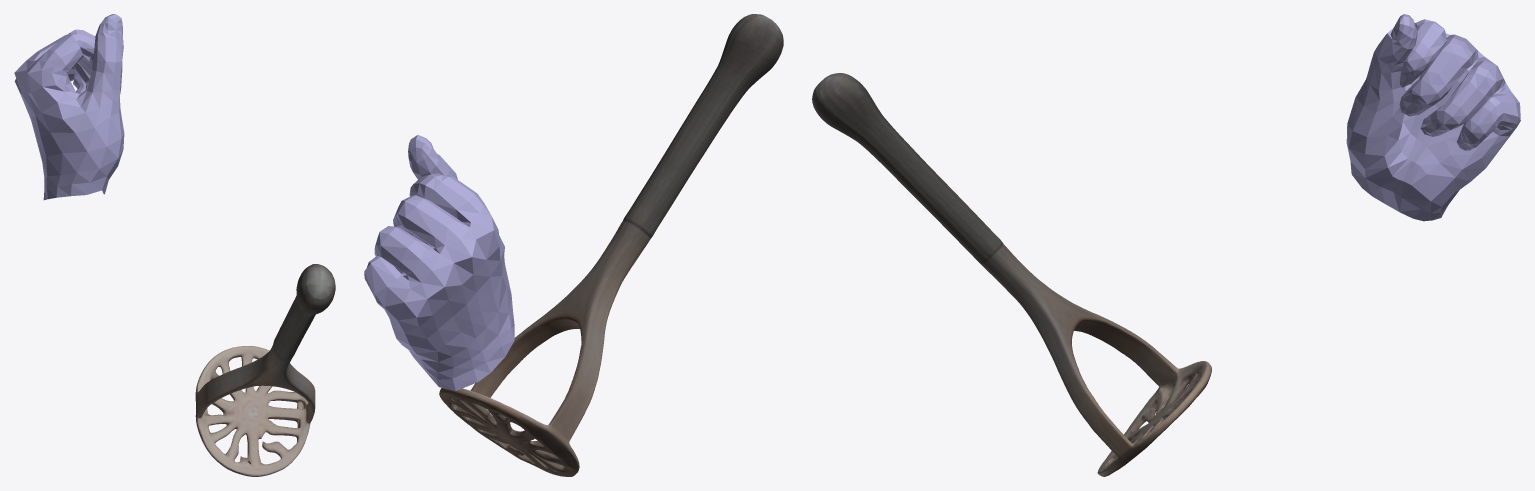
The model's file is frame_0048_source_000048_hand_object.glb.
The picture shows the model from 3 angles, left to right: view 1: azimuth 30°, elevation 25°; view 2: azimuth 150°, elevation 25°; view 3: azimuth 270°, elevation 25°; orthographic projection. The views are drawn at different scales.
Parts seen in each view (by area): view 1: world; view 2: world; view 3: world.
Boxes of the visible parts, left/top/right/bottom form: world: left=14, top=14, right=335, bottom=476; world: left=364, top=14, right=783, bottom=476; world: left=812, top=14, right=1520, bottom=476.
Bounding box in the file's own units: 0.1126 × 0.254 × 0.3699.
